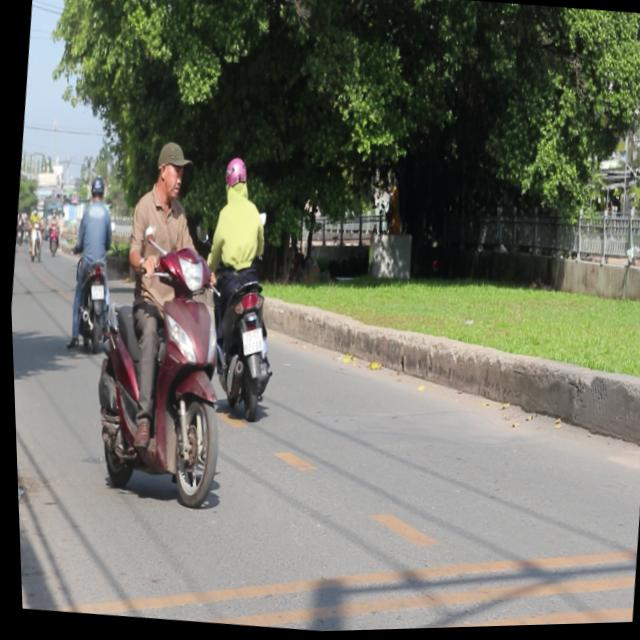helmet: (221, 155, 251, 201)
licenseplate: (73, 130, 254, 515), (186, 152, 292, 425)
motorcyclist: (150, 139, 191, 205)
nohelmet: (238, 328, 262, 356)
